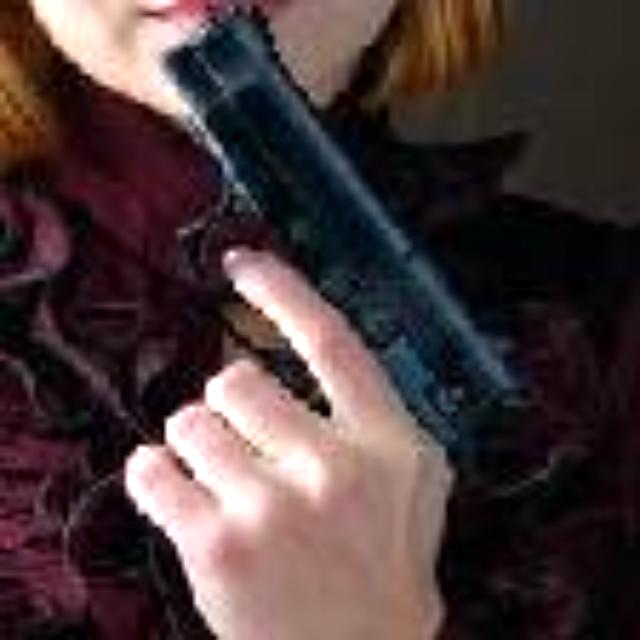pistol: (124, 0, 528, 624)
